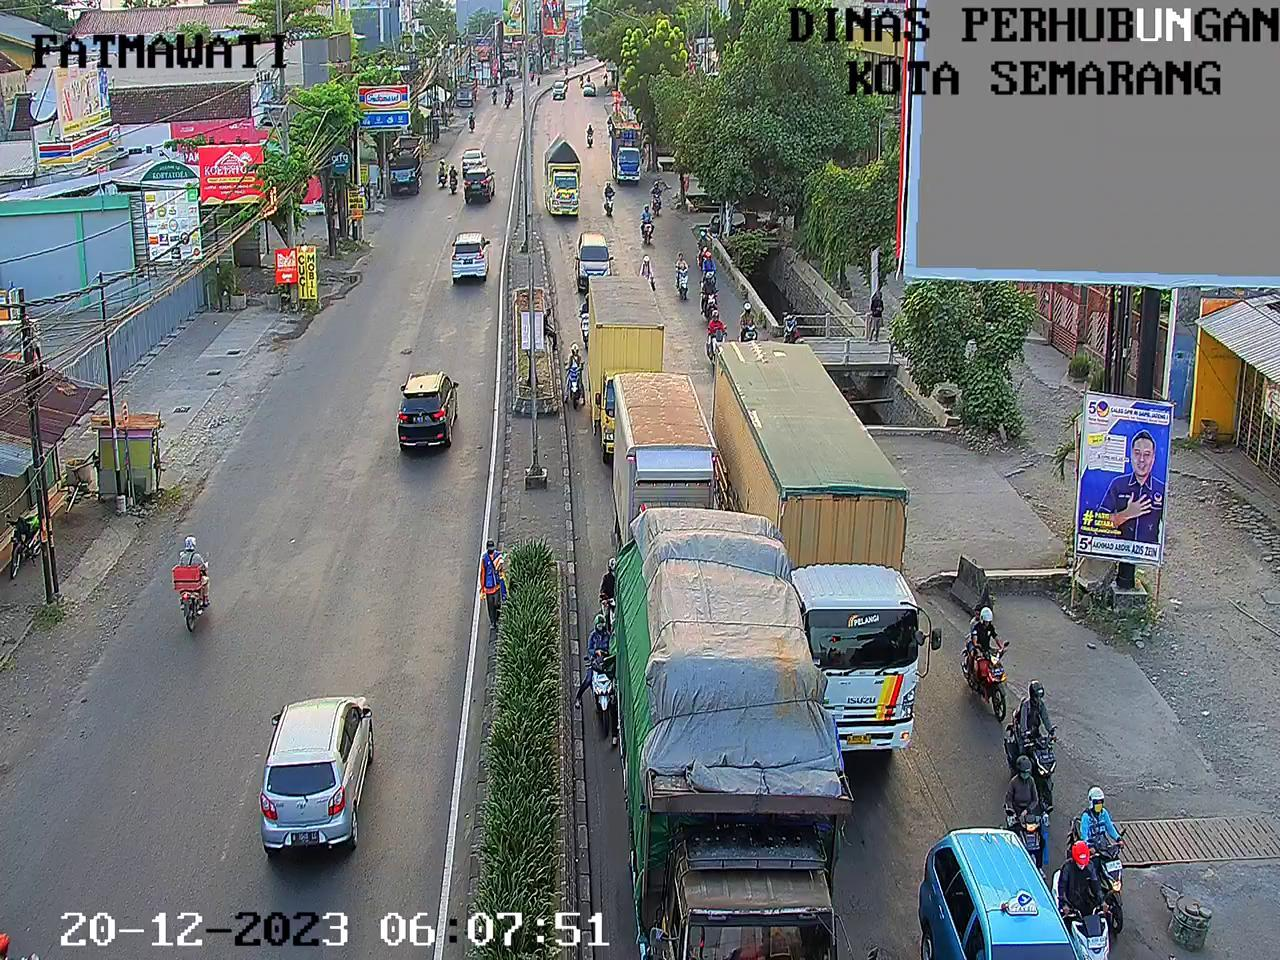car: (919, 825, 1083, 960), (575, 228, 615, 292), (552, 73, 571, 100), (583, 89, 598, 103)
motorcycle: (1068, 785, 1128, 935), (999, 680, 1064, 816), (1057, 846, 1117, 960), (962, 606, 1012, 725), (1001, 754, 1049, 869), (585, 619, 624, 739), (595, 555, 630, 631), (562, 339, 585, 409), (703, 310, 725, 363), (575, 294, 596, 345), (633, 255, 662, 288), (637, 202, 659, 244), (739, 300, 759, 345), (599, 179, 620, 220), (694, 227, 715, 266), (695, 248, 715, 285), (702, 272, 718, 318), (676, 254, 689, 305), (648, 180, 666, 214), (585, 125, 599, 146), (575, 73, 586, 87), (585, 68, 594, 84), (602, 72, 613, 85)
truck: (613, 524, 861, 960), (704, 336, 944, 754), (610, 374, 728, 563), (580, 292, 668, 461), (545, 134, 581, 222), (605, 113, 648, 185)
